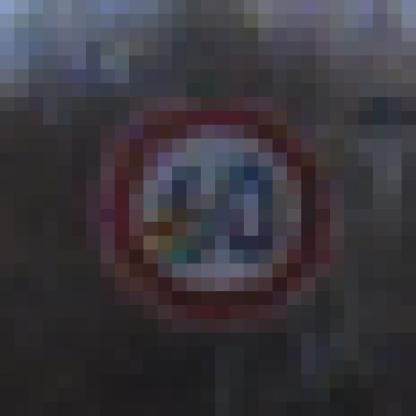Speed Limit -60-: (93, 103, 326, 343)
